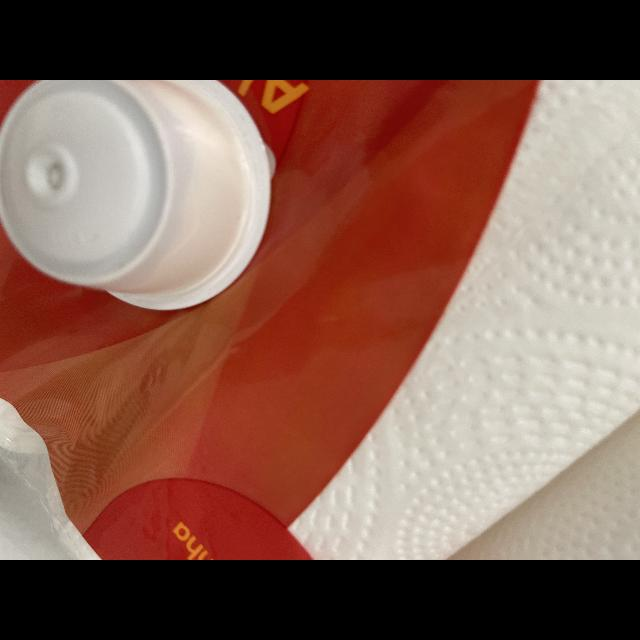intact_capsule: (0, 80, 292, 340)
